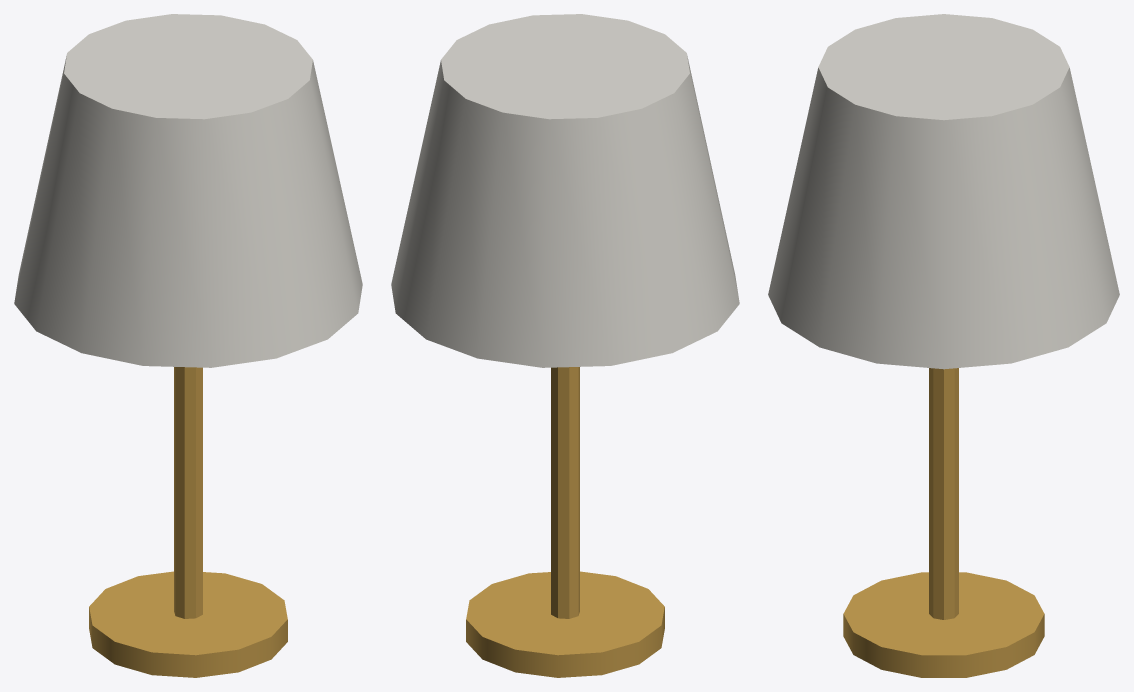
The model's file is home.light.table_lamp.glb.
3 views of the same model, side by side, from view 1: azimuth 30°, elevation 25°; view 2: azimuth 150°, elevation 25°; view 3: azimuth 270°, elevation 25° (orthographic).
Visible parts, largest first — view 1: main__fabric_white, main__brass; view 2: main__fabric_white, main__brass; view 3: main__fabric_white, main__brass.
Part boxes in pixels (x1=…): main__fabric_white: x1=14, y1=14, x2=362, y2=367; main__brass: x1=89, y1=367, x2=287, y2=677; main__fabric_white: x1=391, y1=14, x2=739, y2=367; main__brass: x1=466, y1=367, x2=664, y2=677; main__fabric_white: x1=768, y1=14, x2=1119, y2=369; main__brass: x1=843, y1=368, x2=1044, y2=677.
Size of the model in its own units: 0.28 by 0.5 by 0.28.
